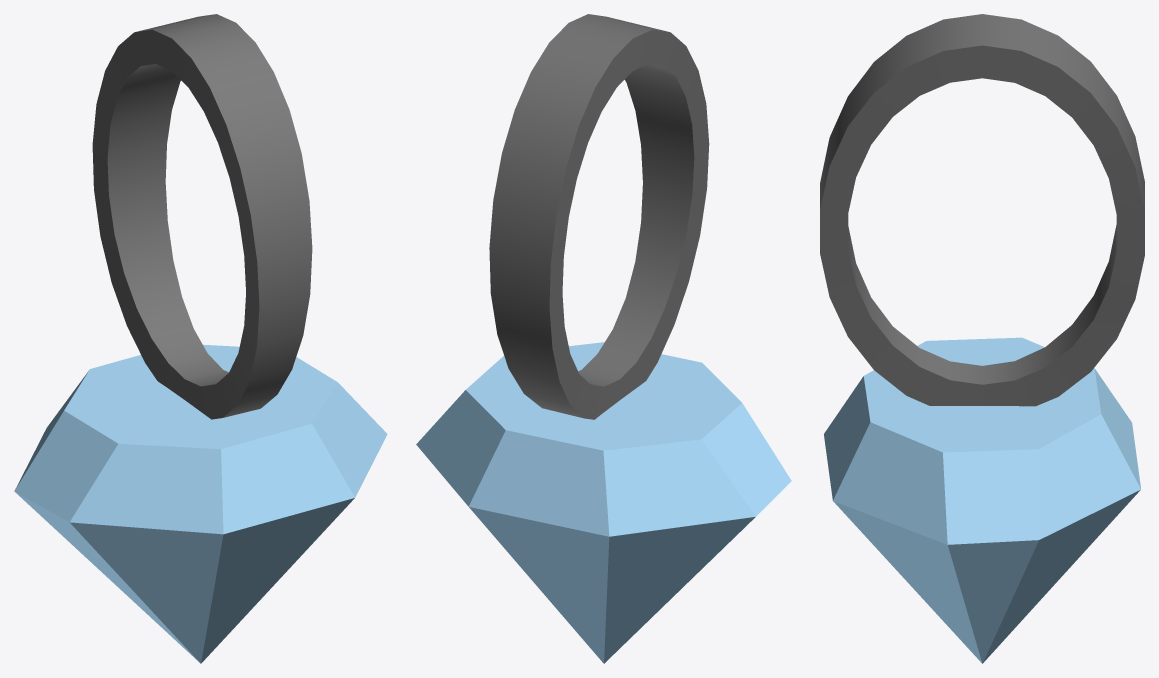
The model's file is Small_Diamond.fbx.
The picture shows the model from 3 angles, left to right: view 1: azimuth 30°, elevation 25°; view 2: azimuth 150°, elevation 25°; view 3: azimuth 270°, elevation 25°; orthographic projection.
Parts seen in each view (by area): view 1: Diamond.001, Diamond; view 2: Diamond.001, Diamond; view 3: Diamond.001, Diamond.
Part boxes in pixels (box(x1,y1,x2,y2)): Diamond.001: box(14, 344, 387, 663); Diamond: box(92, 14, 312, 419); Diamond.001: box(416, 342, 791, 663); Diamond: box(489, 14, 709, 419); Diamond.001: box(824, 337, 1140, 663); Diamond: box(820, 14, 1144, 406).
Bounding box in the file's own units: 12.4 × 22.13 × 10.25.
